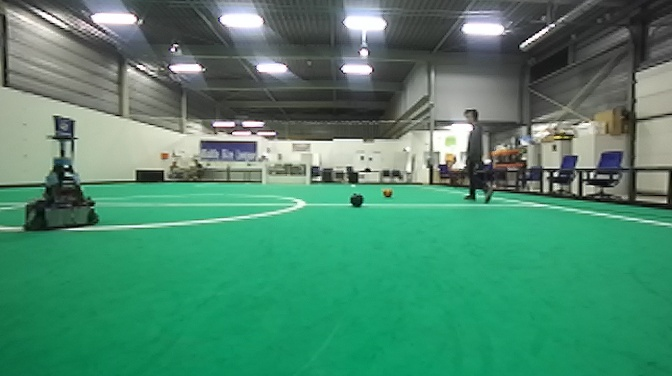ball: (349, 191, 365, 212), (381, 187, 394, 200)
goal: (260, 159, 312, 188)
goalpost: (261, 159, 268, 187), (305, 161, 312, 187)
human: (458, 105, 498, 207)
robot: (20, 112, 104, 237)
